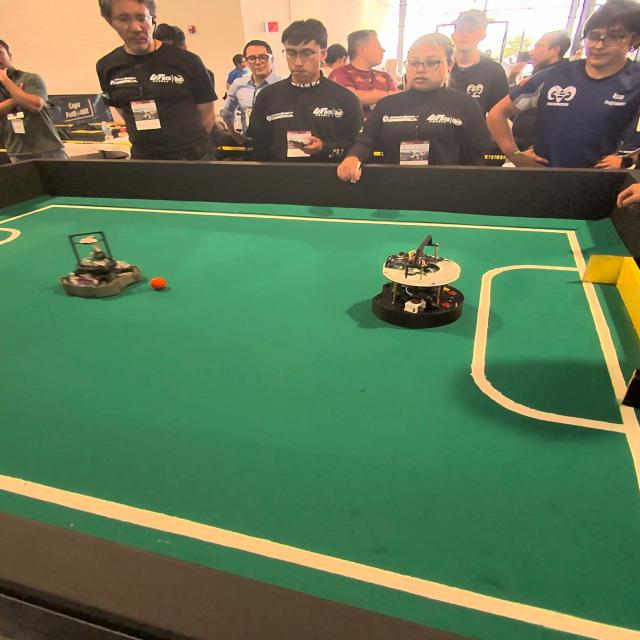Robot: (373, 233, 468, 332), (54, 225, 140, 301)
pelota: (147, 274, 180, 296)
